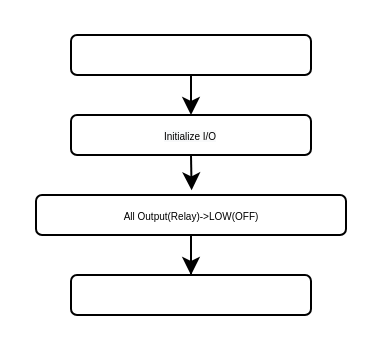
The diagram is 380 pixels wide and 350 high, and some of its shapes have lost their labels. The centre of each missing label's shape, as x and y in pixels:
Initialize P eripheral: (190,294)
Start: (190,54)
